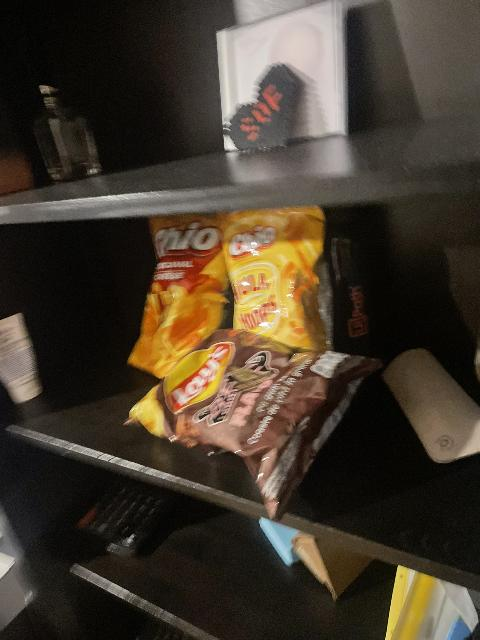Chio Cascaval 125g: (126, 214, 235, 377)
Chio Hula Hoops Cheese 70g: (221, 208, 328, 351)
Lays Beef Grilled Ribs 125g: (134, 334, 385, 518)
